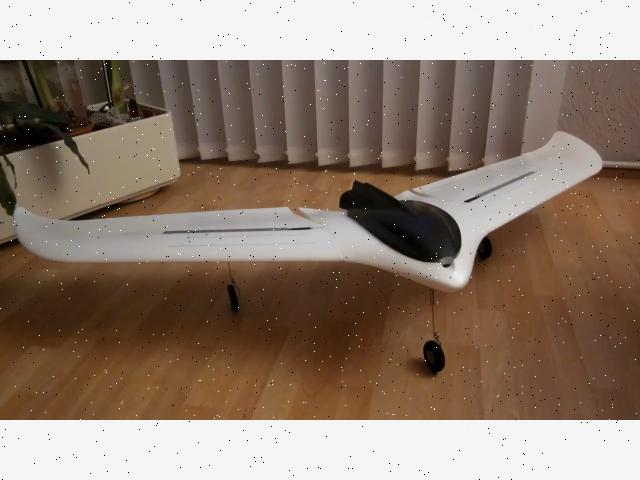Anti-Drone: (8, 118, 624, 296)
